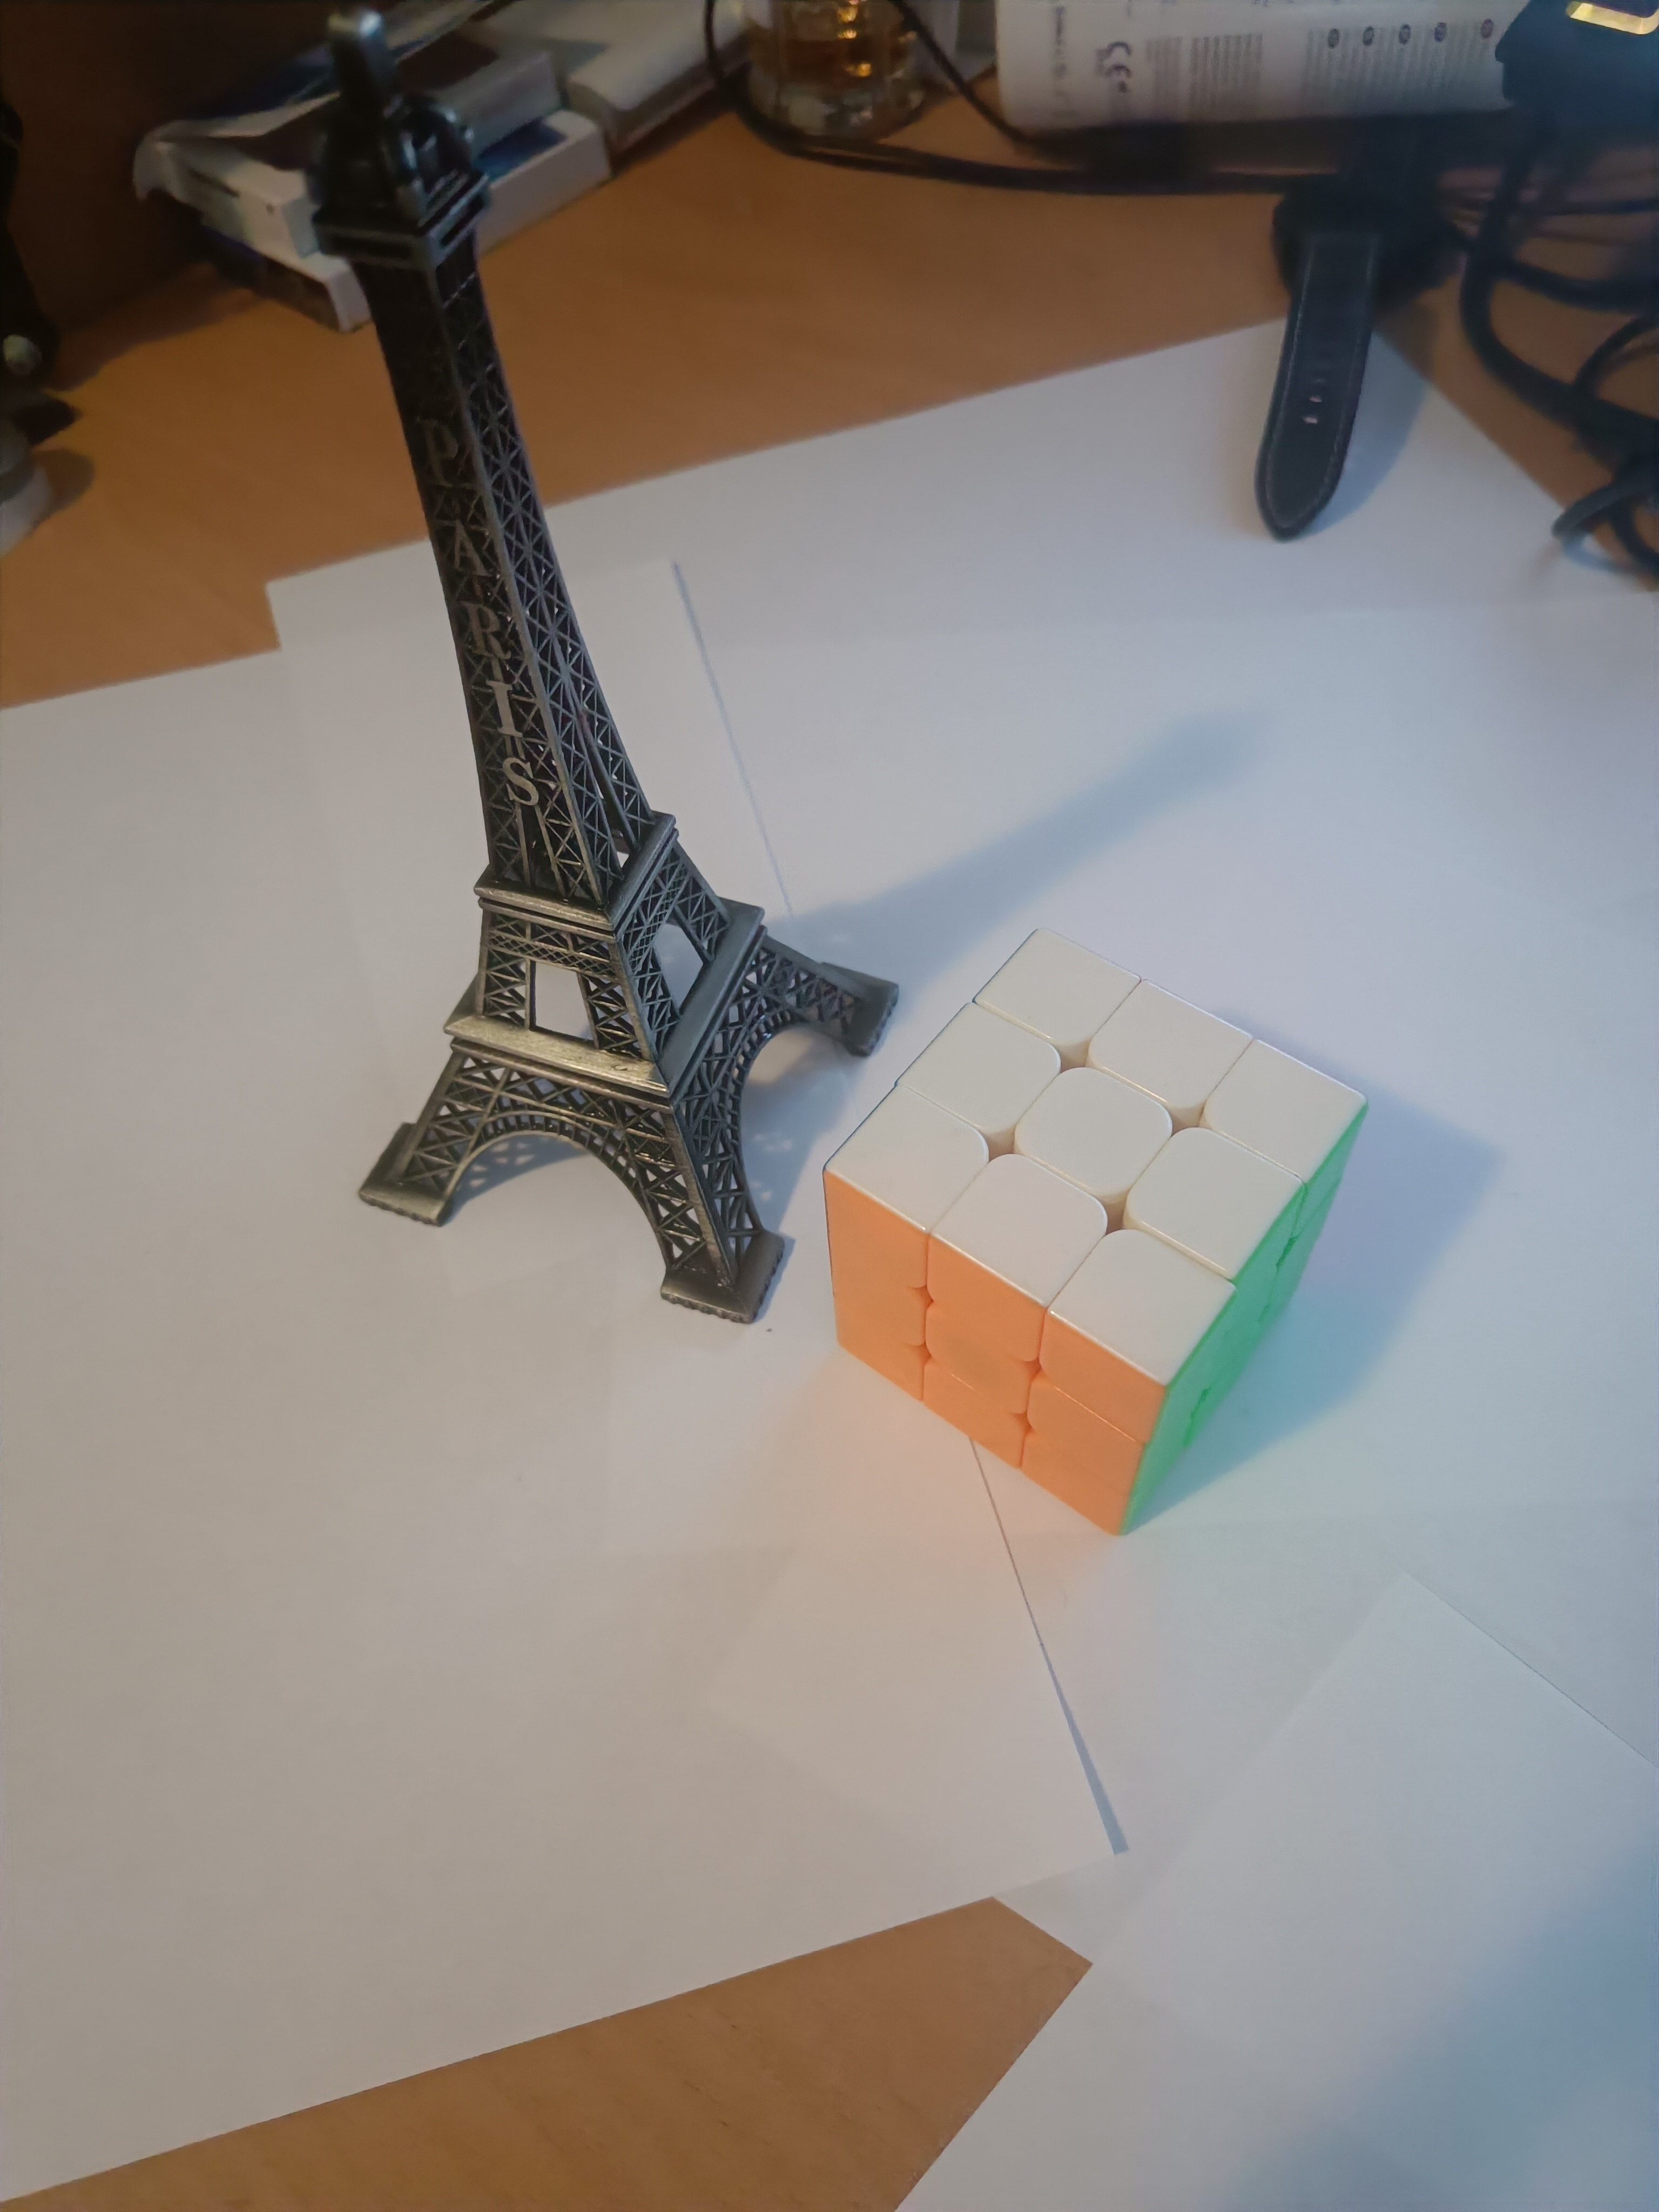Eiffel Tower: (281, 0, 906, 1332)
Rubiks Cube: (817, 916, 1384, 1541)
